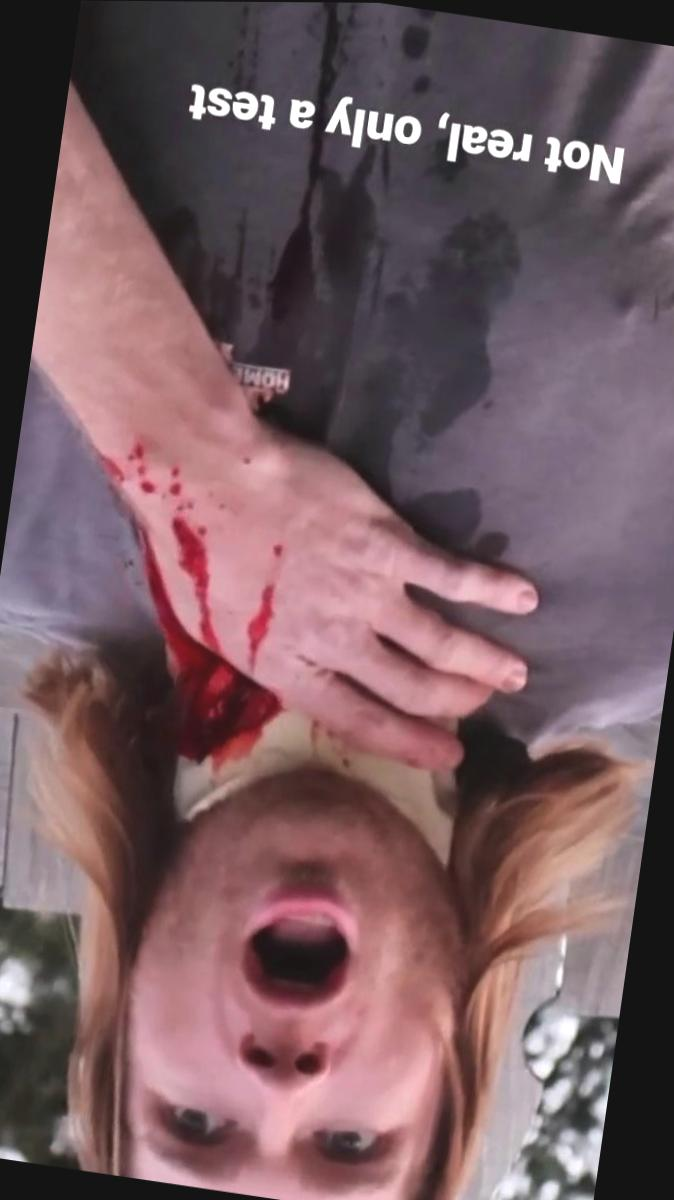Fire: (140, 530, 283, 762), (171, 515, 223, 654), (242, 543, 285, 675), (100, 453, 158, 549), (128, 440, 156, 497), (170, 466, 182, 494)
